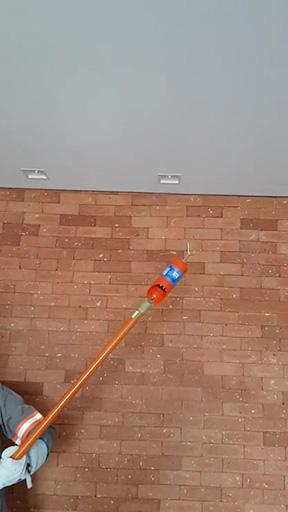Detector_Tensao_Contato: (145, 243, 197, 306)
Vara_Manobra: (1, 305, 152, 475)
